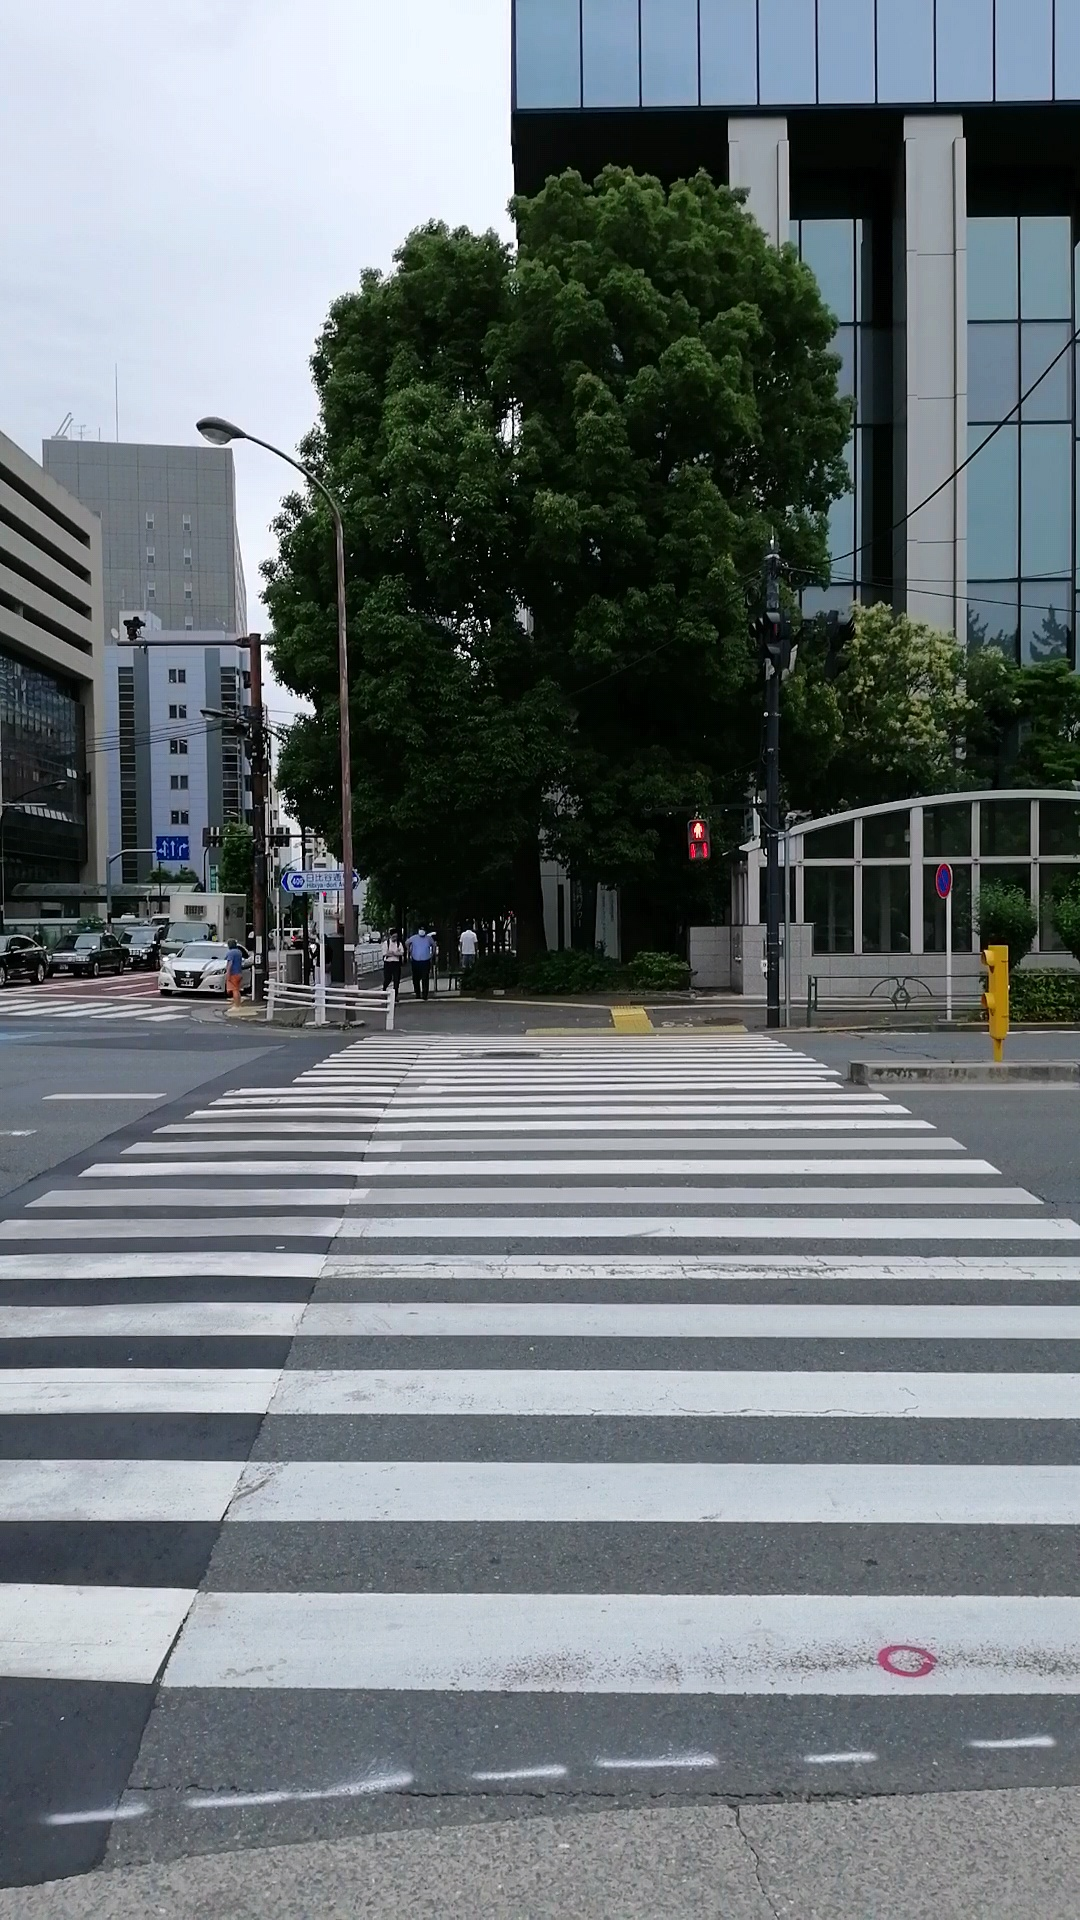red: (684, 818, 709, 862)
